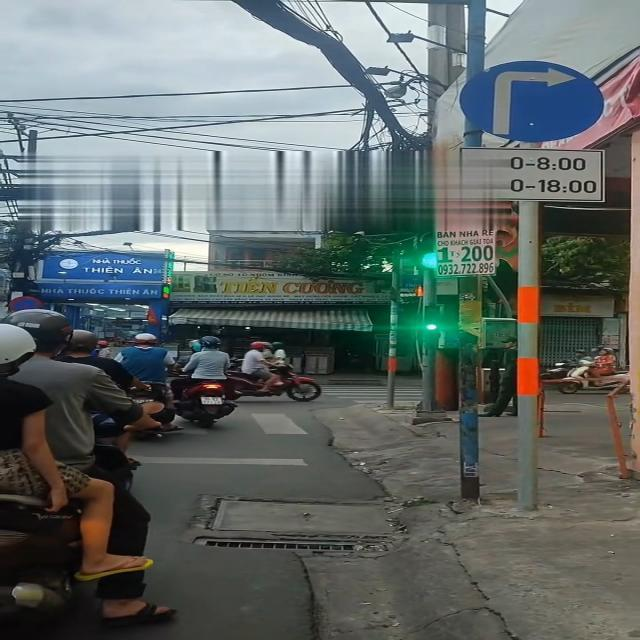301d-cac-xe-chi-duoc-re-phai-2: (460, 58, 602, 146)
